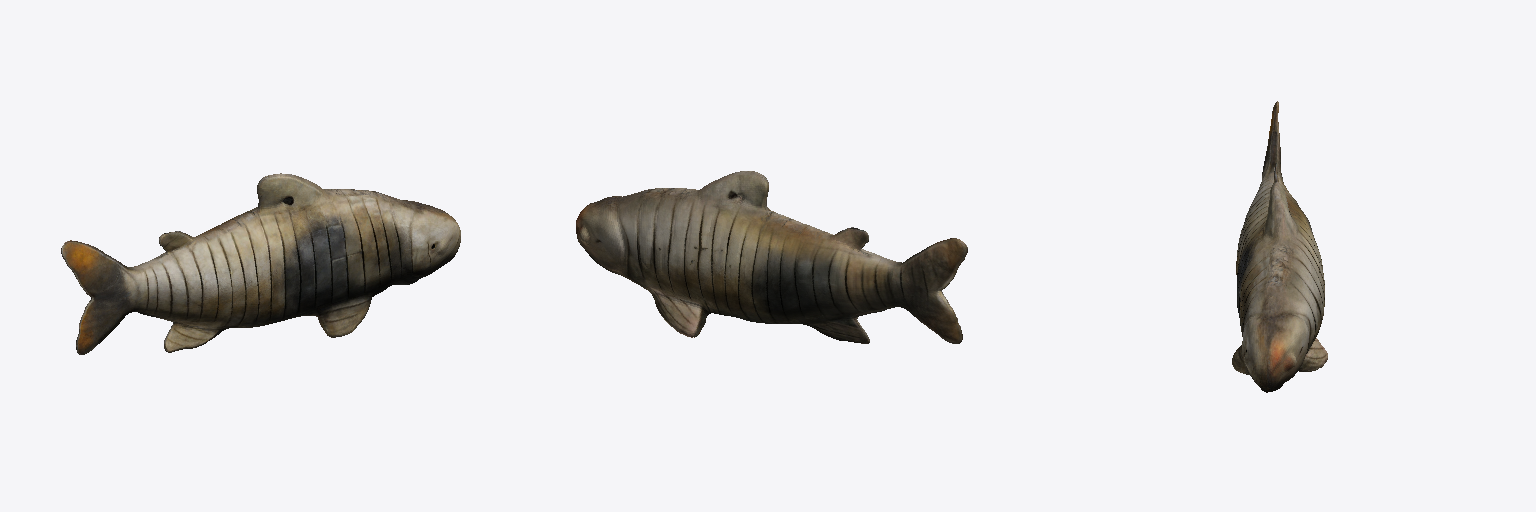
3 views of the same model, side by side, from view 1: azimuth 30°, elevation 25°; view 2: azimuth 150°, elevation 25°; view 3: azimuth 270°, elevation 25° (orthographic).
Visible parts, largest first — view 1: fish; view 2: fish; view 3: fish.
Part boxes in pixels (left/top/right/bottom): fish: left=61, top=173, right=460, bottom=354; fish: left=576, top=171, right=967, bottom=343; fish: left=1232, top=101, right=1327, bottom=392.
Size of the model in its own units: 2 by 0.7672 by 0.4216.
Materials: 1 (1 with a texture image).